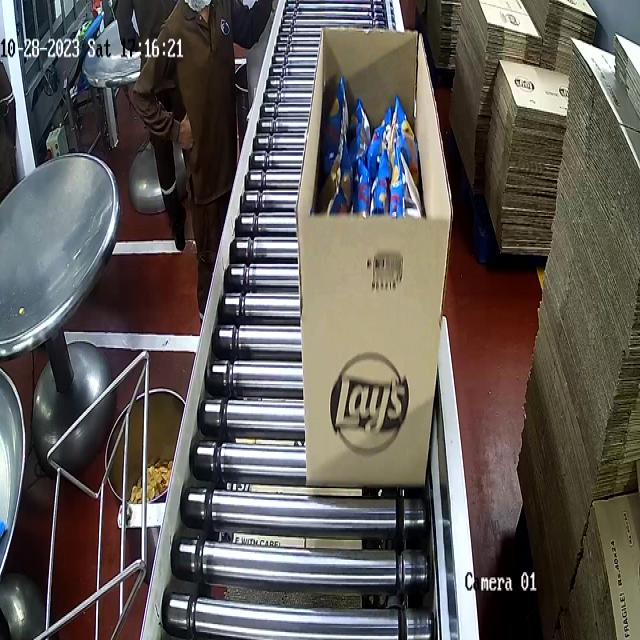PAPRIKA: (324, 84, 431, 218)
